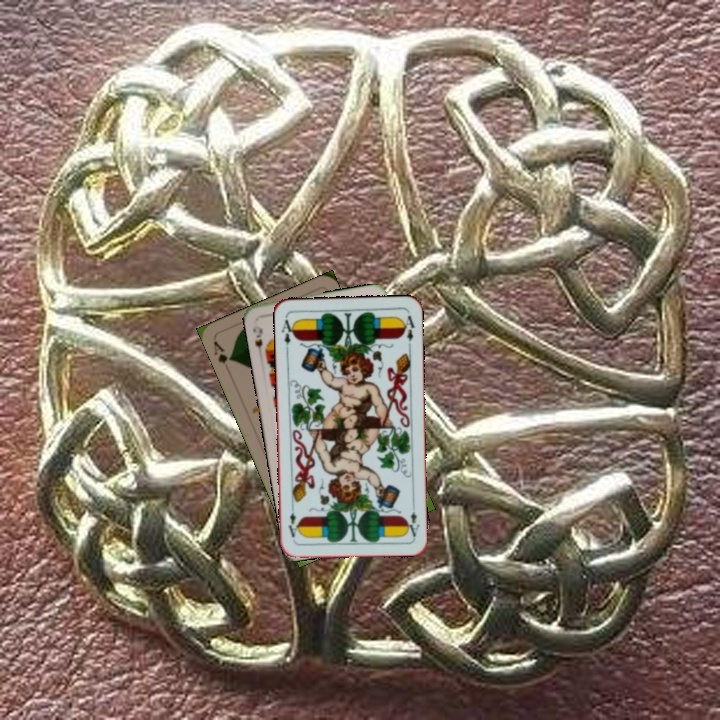EA: (403, 499, 422, 539), (278, 313, 297, 347)
GA: (209, 337, 235, 366)
S9: (249, 324, 271, 360)
